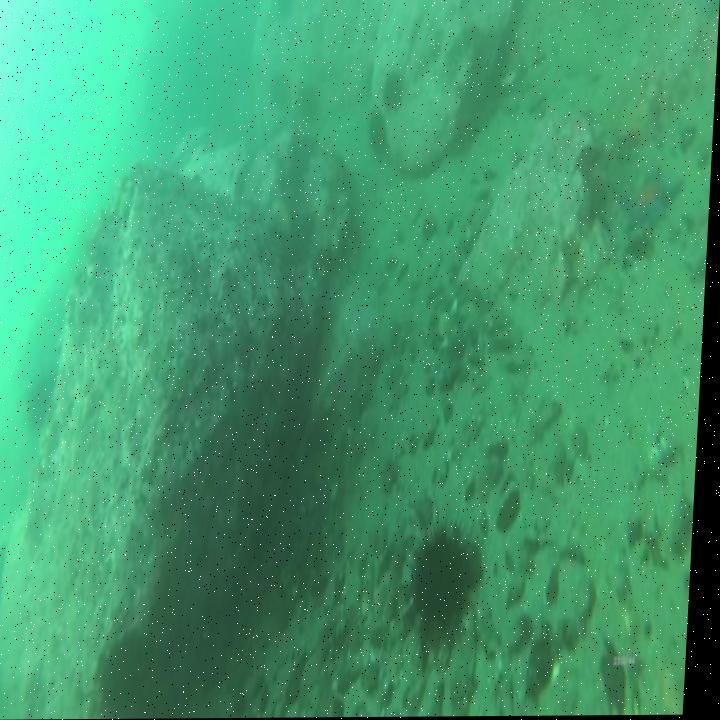echinus: (416, 530, 477, 630), (29, 379, 58, 425), (366, 119, 388, 158), (383, 74, 405, 108), (297, 87, 318, 122), (269, 77, 289, 105)
starfish: (616, 163, 687, 225)
